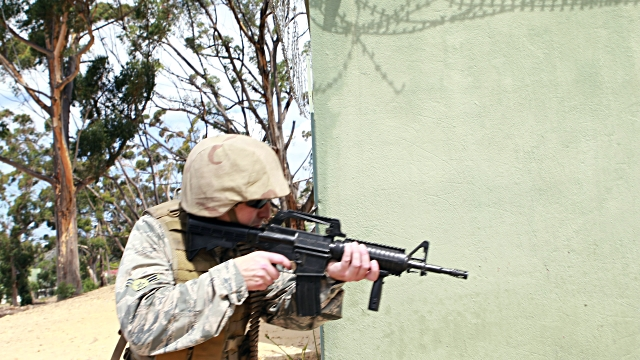rifle: (182, 205, 469, 318)
